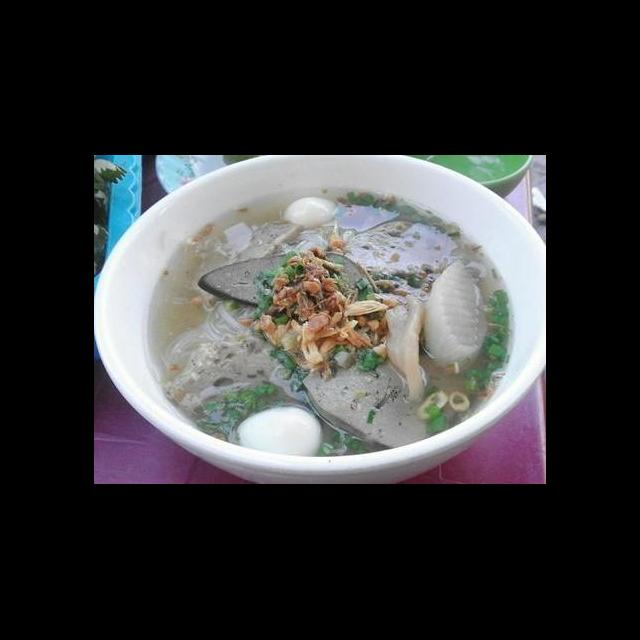banh hu tieu: (160, 298, 269, 370)
gan: (277, 322, 435, 454), (193, 248, 384, 316)
hu tieu: (94, 186, 518, 484)
trung: (232, 400, 324, 462), (281, 192, 341, 232)
